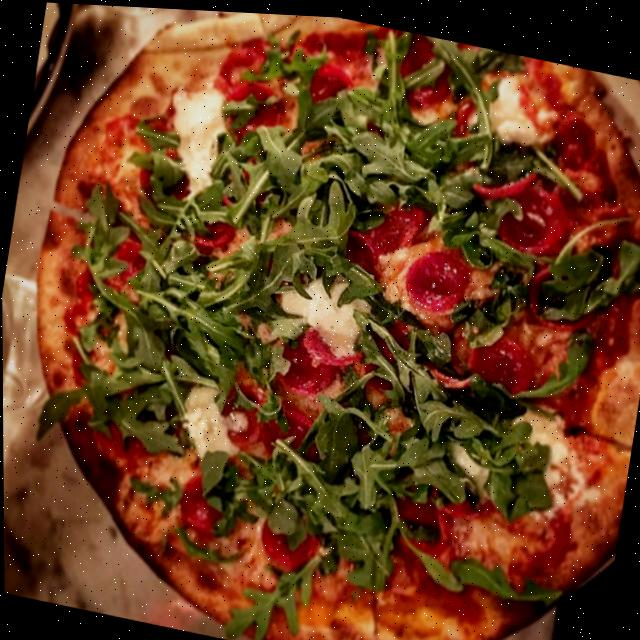pepperoni: (494, 175, 572, 256), (463, 322, 541, 395), (400, 240, 470, 314), (271, 325, 338, 398), (392, 473, 452, 553), (256, 510, 322, 572), (258, 398, 318, 464), (371, 192, 425, 257), (173, 467, 227, 532), (213, 382, 266, 447), (336, 222, 390, 280), (301, 320, 363, 368), (310, 55, 356, 106)
pizza: (0, 0, 640, 640)
